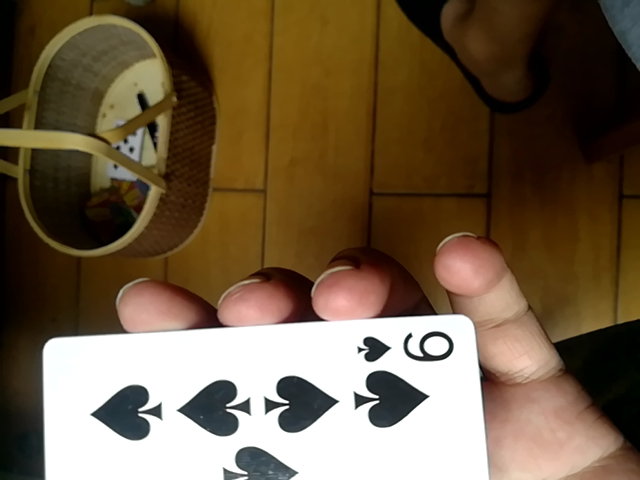ht 9: (45, 313, 489, 477)
